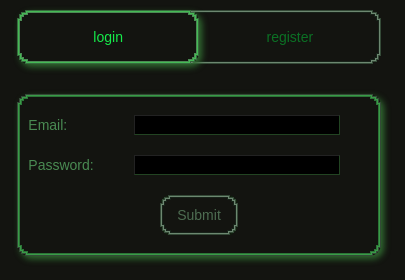
Test: LoginForm — login mode › submit button is enabled when email is valid
The image size is (405, 280).
In the field labelled "Email:": (237, 125) top-left (134, 115), bottom-right (340, 135), type "user@example.com"
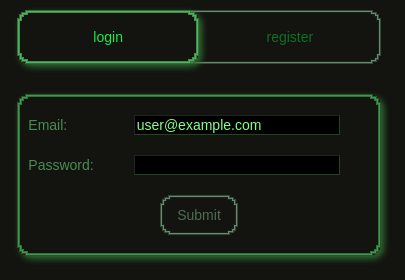
Leave the field labelled "Email:", box top-left (134, 115), bottom-right (340, 135)
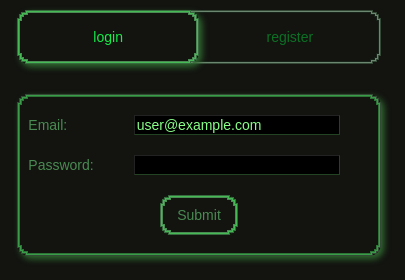
Result: the button "Submit" is enabled at top-left (160, 195), bottom-right (238, 235)
